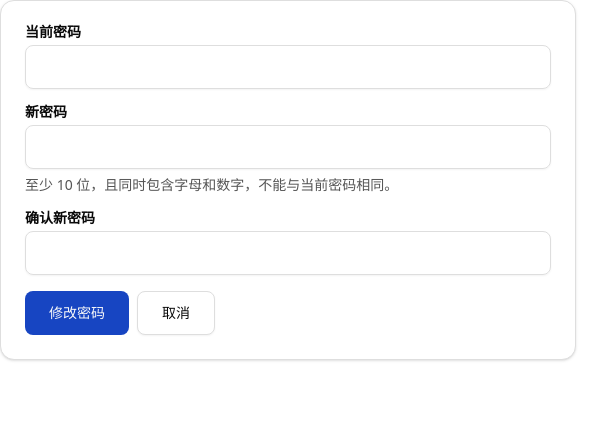
it: ChangePasswordForm：成功 › 提示「密码已修改」（status）；三个密码框清空；页面里没有任何密码
This screenshot has width=593, height=440.
Type "Old-Secret-pass1" into the password field labelled "当前密码" at (288, 67), box [25, 45, 551, 89]
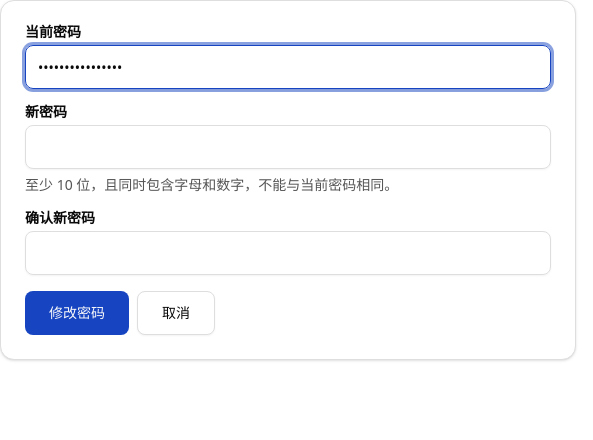
Type "New-Secret-pass2" into the password field labelled "新密码" at (288, 147), box [25, 125, 551, 169]
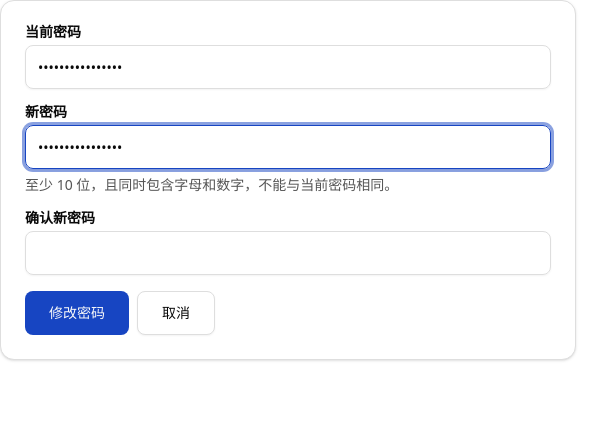
Type "New-Secret-pass2" into the password field labelled "确认新密码" at (288, 253), box [25, 231, 551, 275]
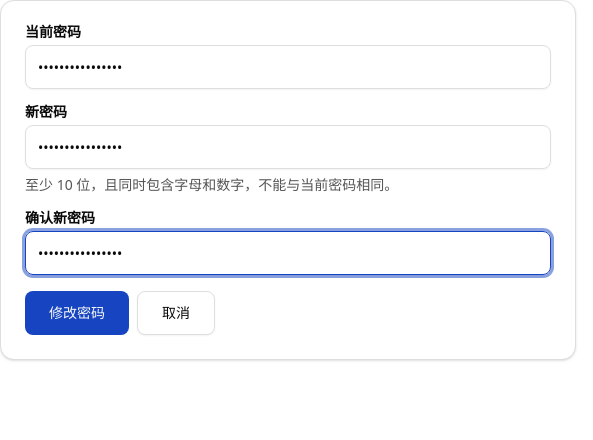
Click the button "修改密码" at (77, 313), box [25, 291, 129, 335]
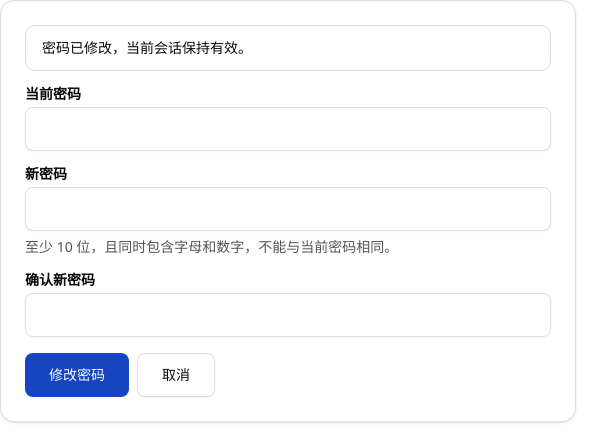
Expected: the message reads "密码已修改，当前会话保持有效。", [42, 38, 252, 57]
Expected: the password field labelled "当前密码" is empty, [25, 107, 551, 151]
Expected: the password field labelled "新密码" is empty, [25, 187, 551, 231]
